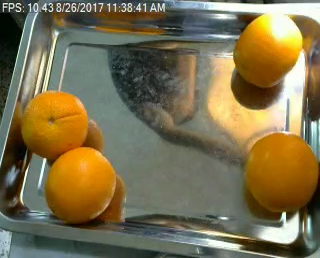Orange: (245, 132, 317, 212), (45, 146, 116, 222), (234, 12, 303, 86), (21, 89, 89, 157)
